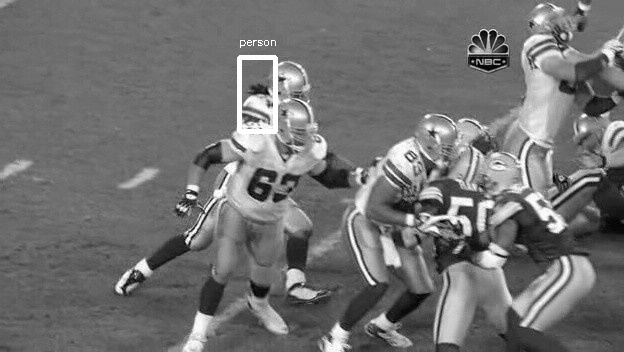person: (276, 62, 311, 106), (275, 62, 310, 106), (277, 62, 312, 106), (276, 61, 311, 105), (276, 63, 311, 107)
target_negative: (94, 198, 259, 316), (98, 178, 209, 264), (552, 272, 586, 335), (592, 194, 600, 314), (418, 6, 464, 11)
